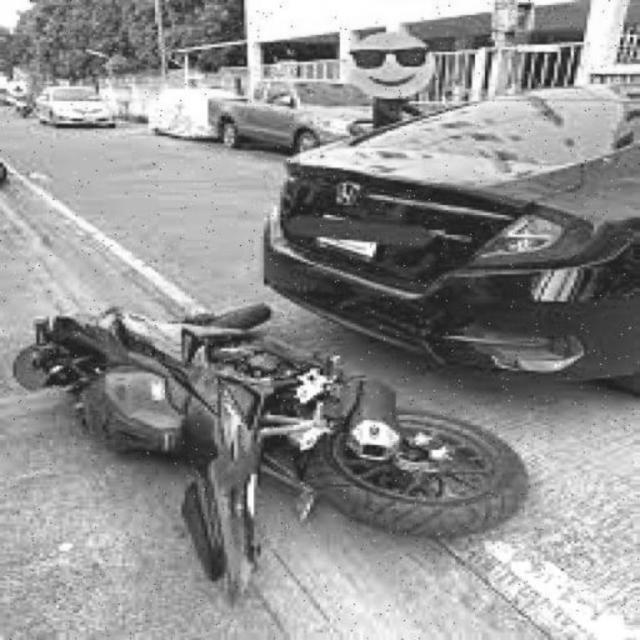vehicle: (37, 312, 495, 585), (274, 86, 640, 387), (203, 75, 373, 148), (35, 81, 109, 133)
